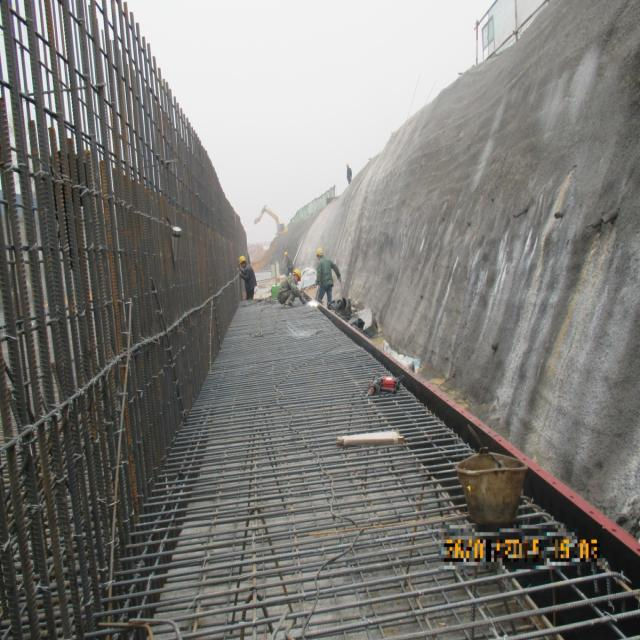crane: (254, 204, 288, 236)
